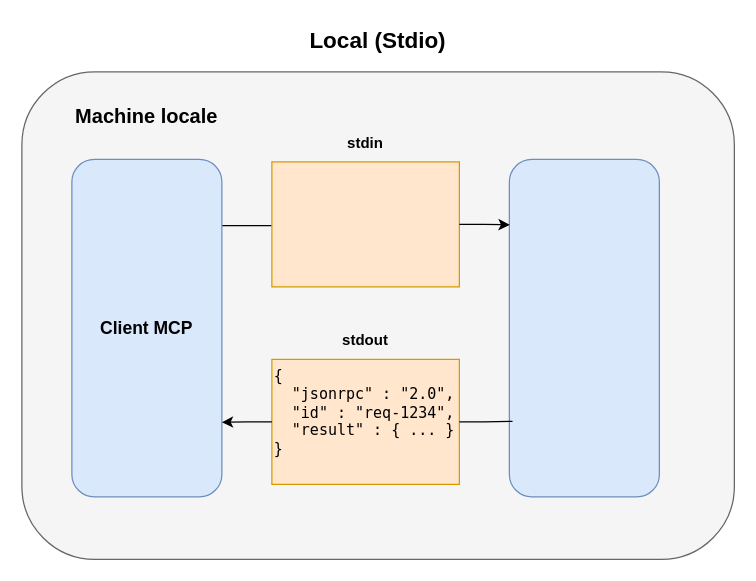
Image size: 756x581. Some labels were removed from this diagram. The box of each missing label's shape, as (x1, y1, x2, y2) in pixels:
Serveur MCP: (508, 158, 659, 497)
{ "jsonrpc" : "2.0", "id" : "req-1234", "method" : ..., "params" : { ... } }: (271, 161, 459, 287)
